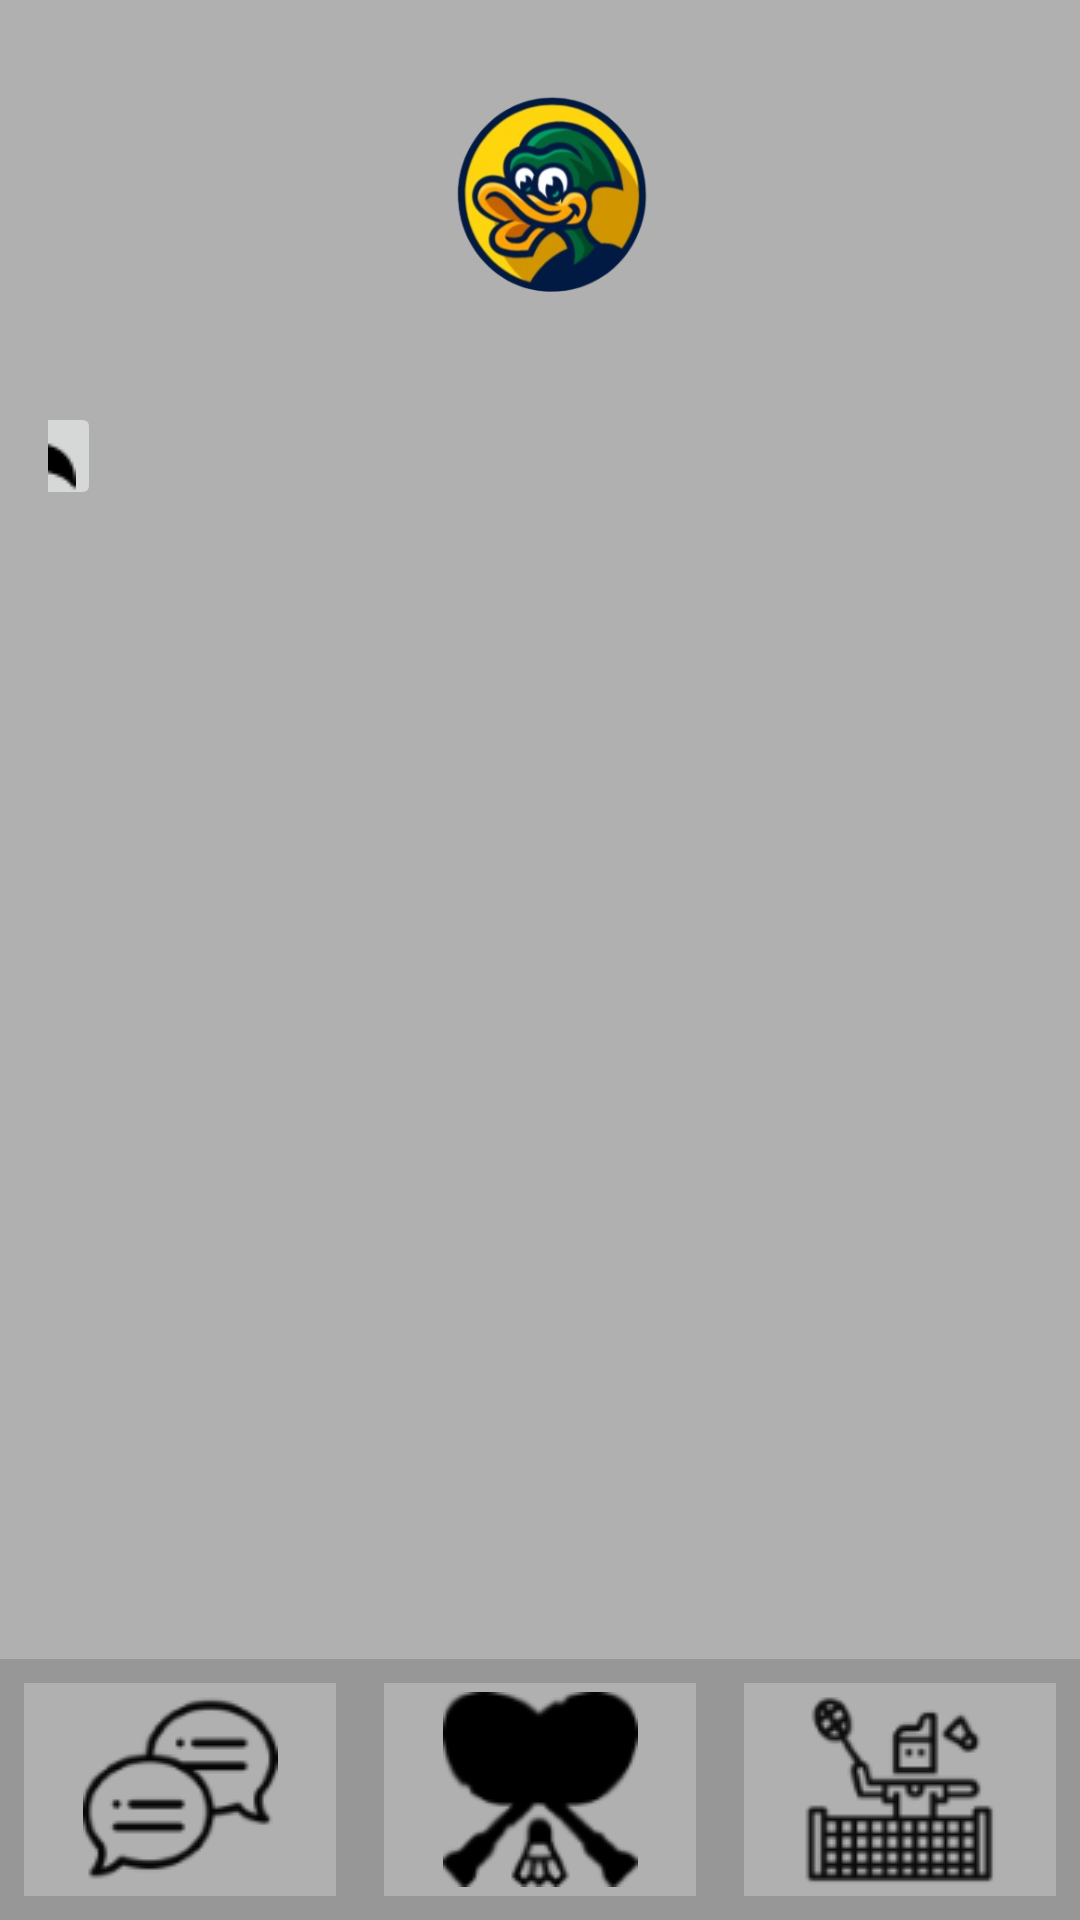

Icon click points for this 1080×1920 phone screenshot, format (x=x, y=y):
Chat: (x=180, y=1789)
